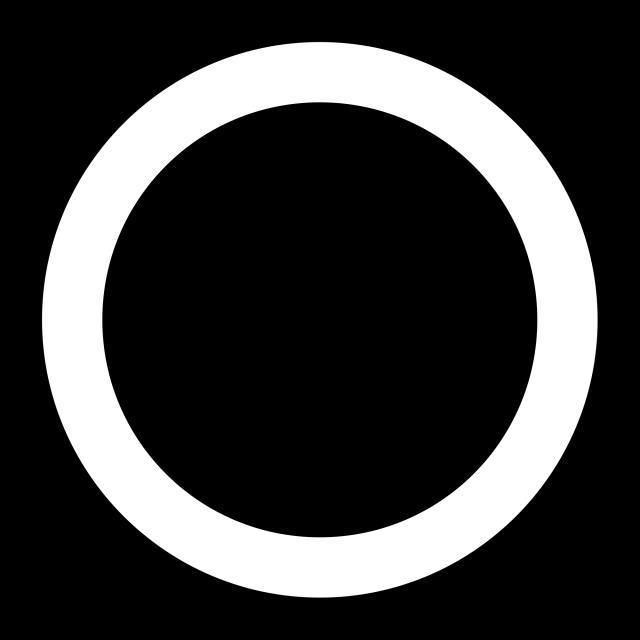Circle: (95, 100, 541, 544)
